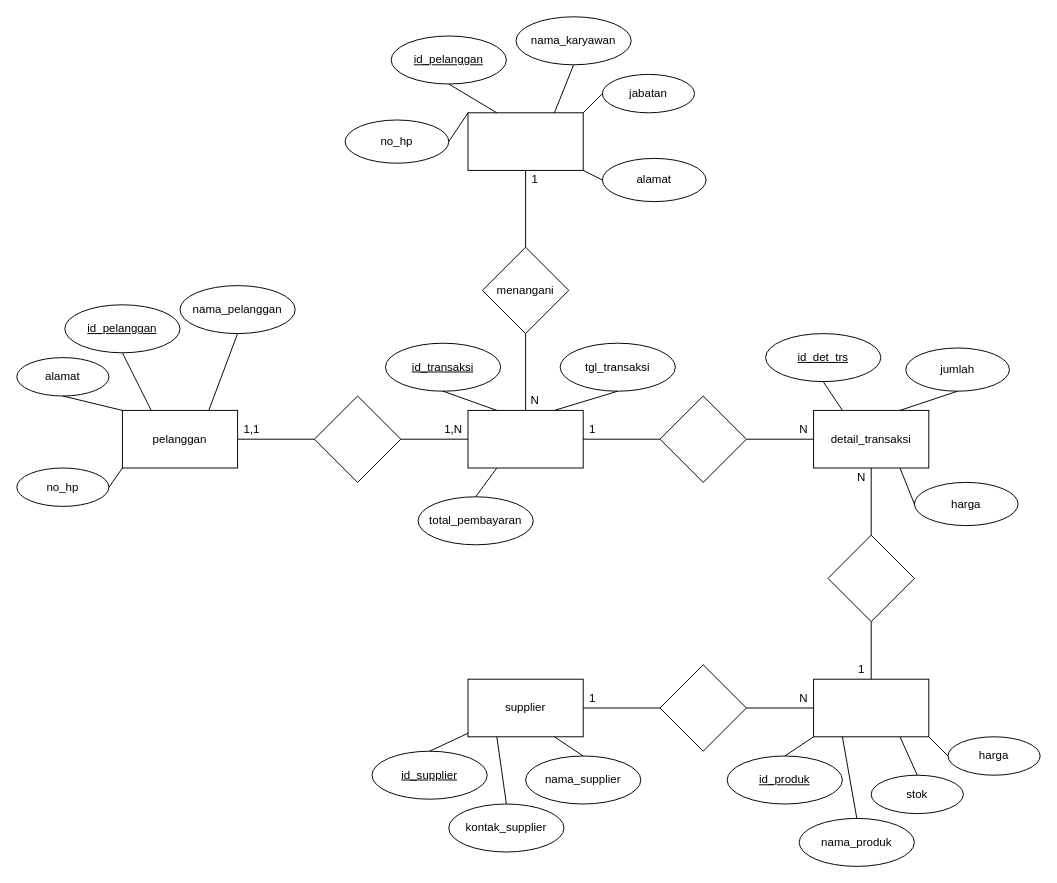
This 1057x883 diagram has some shape labels left out. The shapes that lost their labels are listed below. From the top down, each one's centre as x and y in pixels, then its label:
the point at 525,141: karyawan
the point at 357,438: melakukan
the point at 525,438: transaksi
the point at 702,438: mempunyai
the point at 870,578: memuat
the point at 702,707: menyuplai
the point at 871,707: produk
